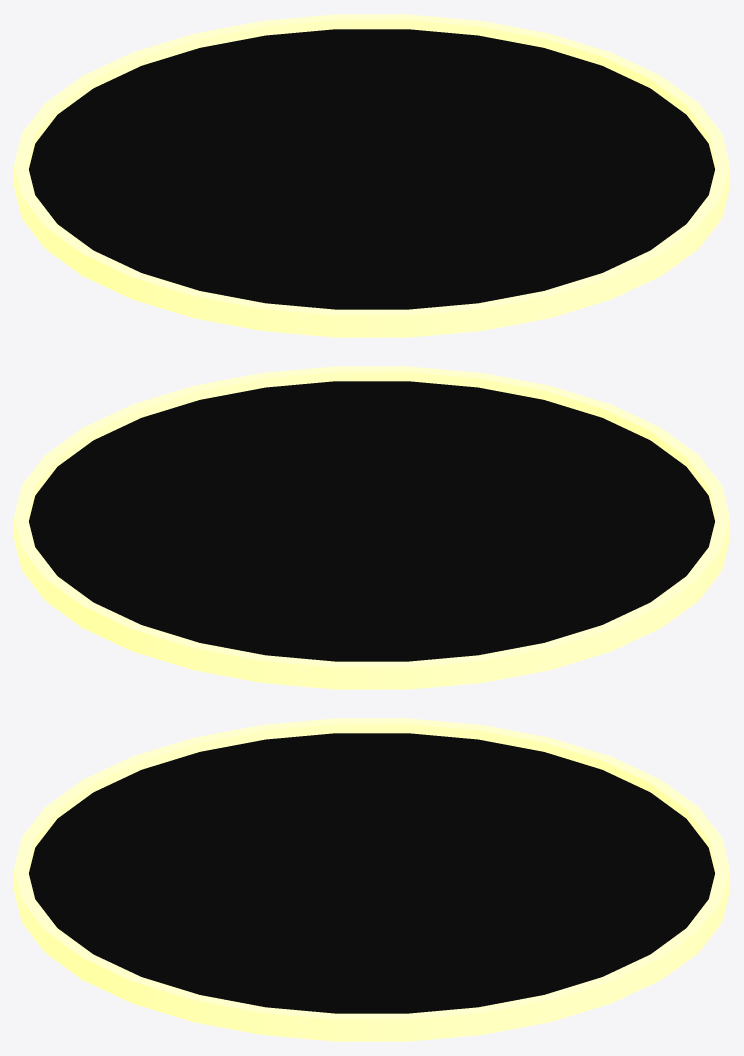
The model's file is SFI0510009.fbx.
3 views of the same model, one above another, from view 1: azimuth 30°, elevation 25°; view 2: azimuth 150°, elevation 25°; view 3: azimuth 270°, elevation 25° (orthographic).
Parts seen in each view (by area): view 1: smSFI0510009; view 2: smSFI0510009; view 3: smSFI0510009.
Boxes of the visible parts, x1,y1,x2,y2 form: smSFI0510009: [14, 14, 729, 337]; smSFI0510009: [14, 366, 729, 689]; smSFI0510009: [14, 718, 729, 1041].
Size of the model in its own units: 199 by 6.83 by 200.
